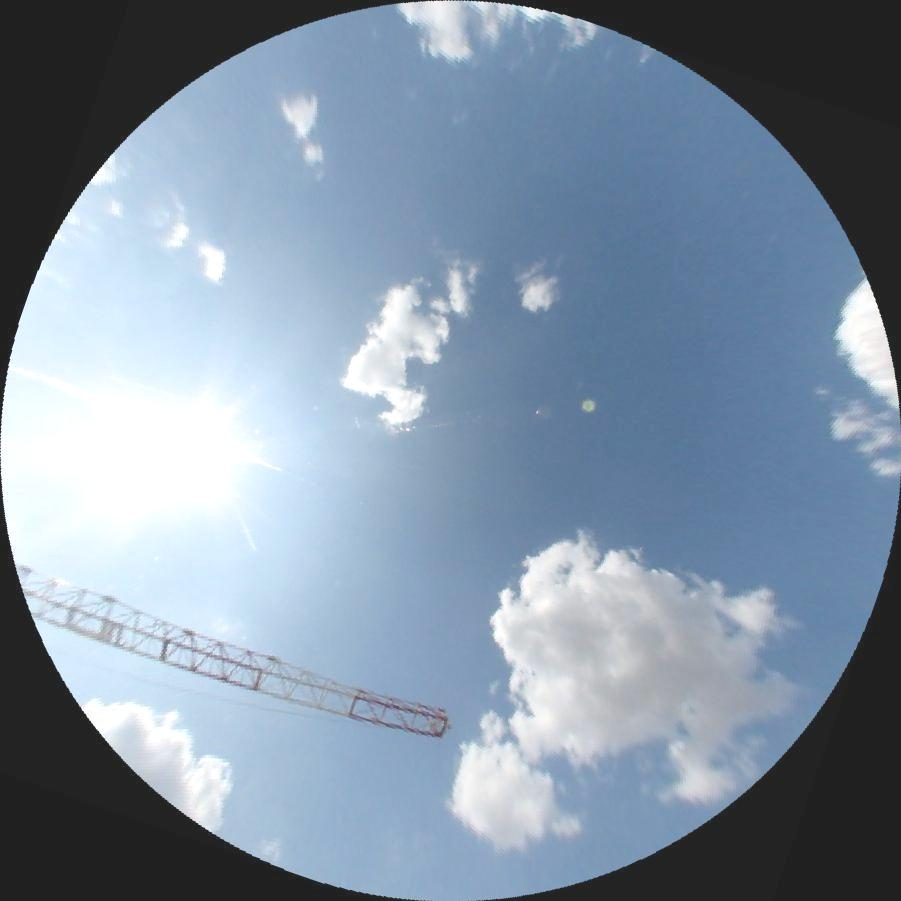contrail young: (229, 496, 258, 554)
parasite: (8, 360, 284, 472)
sun: (140, 405, 226, 498)
unknow: (104, 372, 183, 400)
